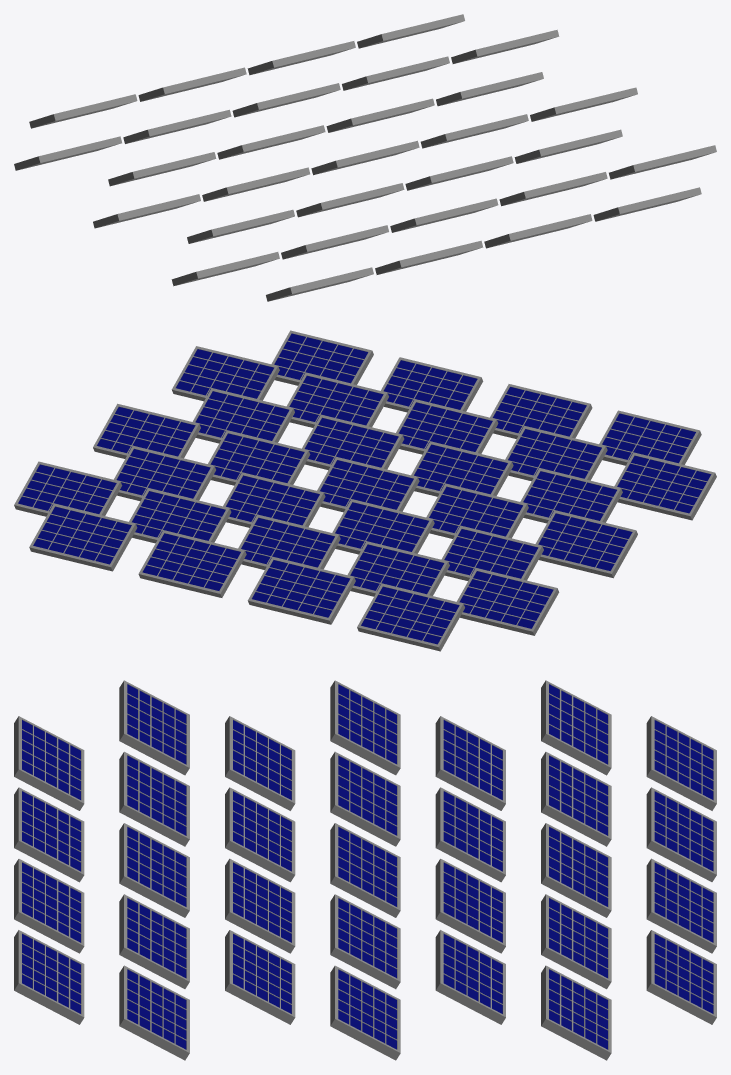
File: solarPanel1.fbx
3 renders of one model, top to bottom at view 1: azimuth 30°, elevation 25°; view 2: azimuth 150°, elevation 25°; view 3: azimuth 270°, elevation 25°, orthographic. The views are drawn at different scales.
Visible parts, largest first — view 1: Frame.002, Frame.001, Frame.005, Frame.008, Frame.003, Frame.004, Frame.006; view 2: Frame.001, Frame.005, Frame.002, Frame.008, Frame.004, Frame.006, Frame.003; view 3: Frame.001, Frame.005, Frame.002, Frame.003, Frame.008, Frame.004, Frame.006.
Part boxes in pixels (x1,y1,x2,y2): Frame.002: (93, 87, 637, 228); Frame.001: (171, 145, 716, 286); Frame.005: (14, 29, 559, 170); Frame.008: (29, 14, 464, 128); Frame.003: (266, 187, 701, 301); Frame.004: (187, 129, 622, 243); Frame.006: (108, 72, 543, 186); Frame.001: (171, 346, 716, 520); Frame.005: (14, 461, 559, 635); Frame.002: (93, 403, 637, 578); Frame.008: (29, 503, 464, 651); Frame.004: (192, 388, 622, 523); Frame.006: (114, 446, 543, 580); Frame.003: (271, 330, 701, 465); Frame.001: (119, 680, 189, 1060); Frame.005: (541, 680, 611, 1060); Frame.002: (330, 680, 400, 1060); Frame.003: (14, 716, 84, 1024); Frame.008: (646, 716, 716, 1024); Frame.004: (225, 716, 295, 1024); Frame.006: (435, 716, 505, 1024).
Size of the model in its own units: 190 by 10.95 by 167.
